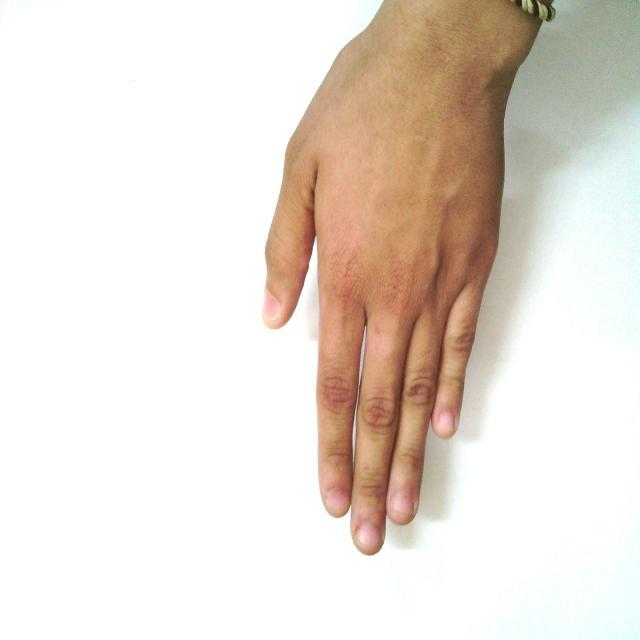Fingernail: (326, 488, 349, 515), (357, 520, 380, 546), (263, 291, 281, 322), (391, 492, 412, 514), (439, 409, 455, 433)
